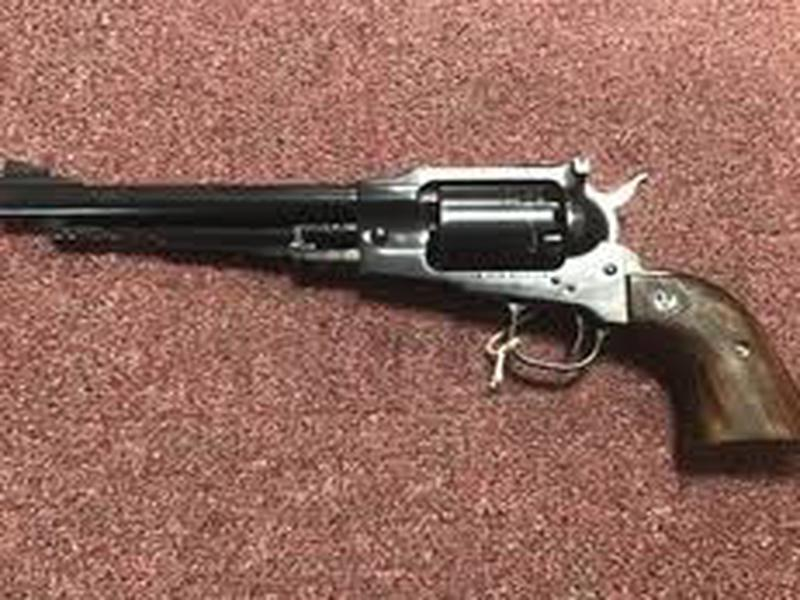gun: (1, 157, 800, 447)
